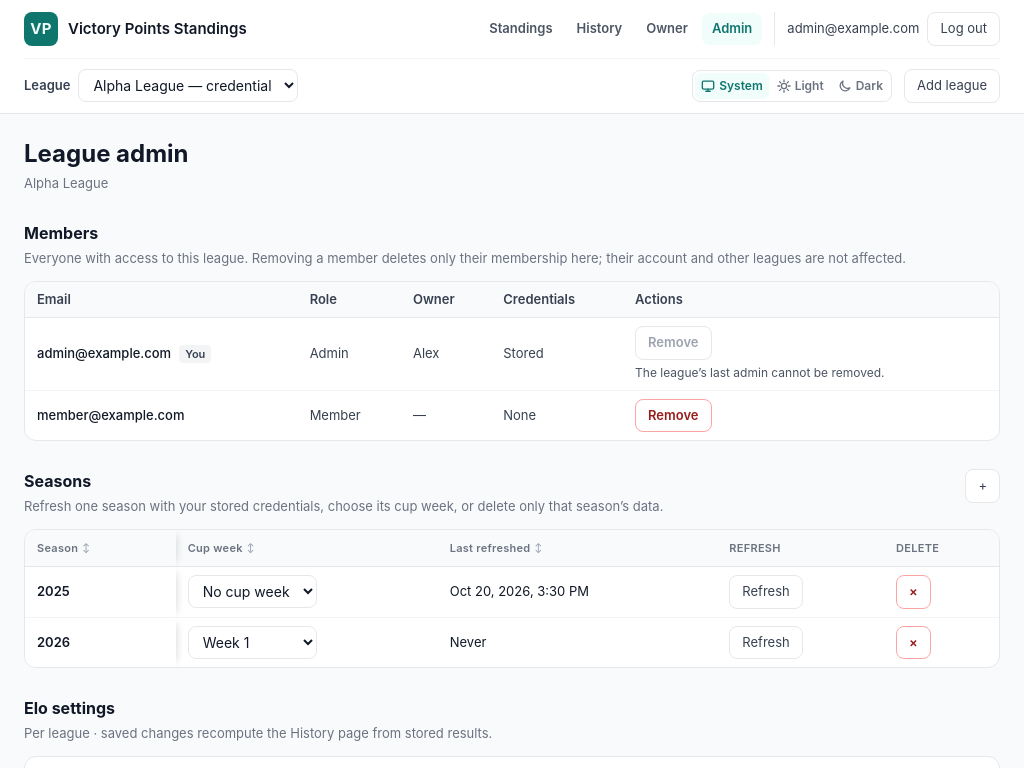
Test: App routing › keeps the admin route when a league is switched
Expected: the heading "League admin" is shown, [24,138,188,168]
Select "Beta League — no credentials" in the dropdown labelled "League". click: (188, 86)
box: [78,69,298,102]
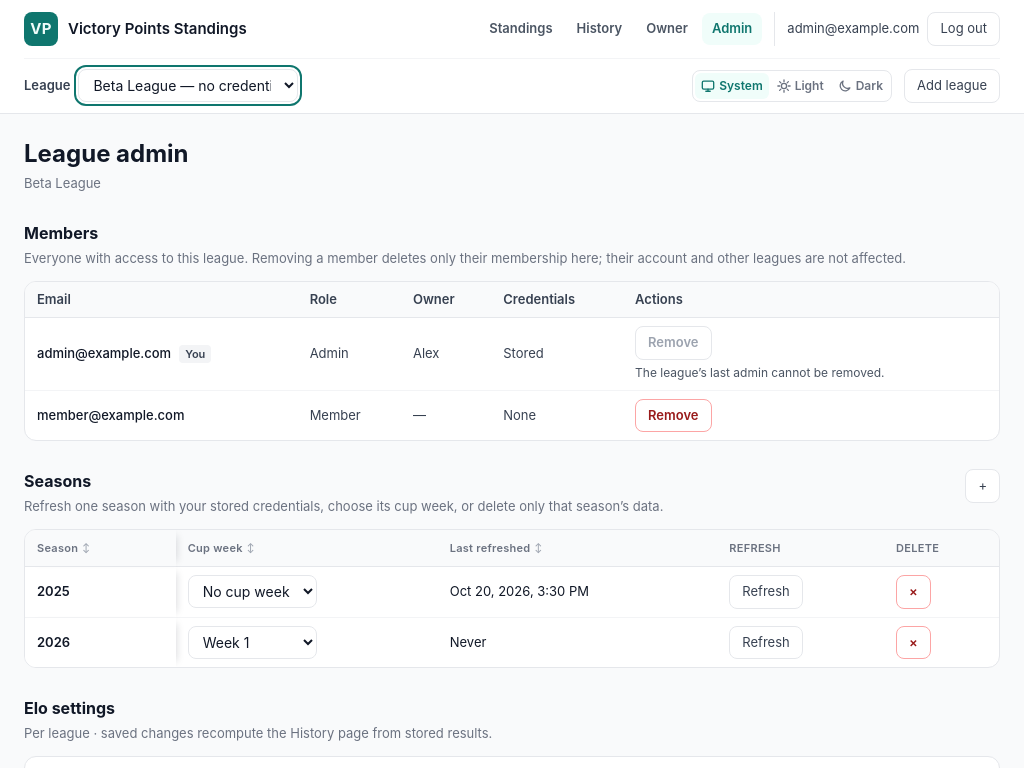
Expected: the heading "League admin" is shown, [24,138,188,168]
Now the text "Beta League" is shown, box [24,174,101,190]
